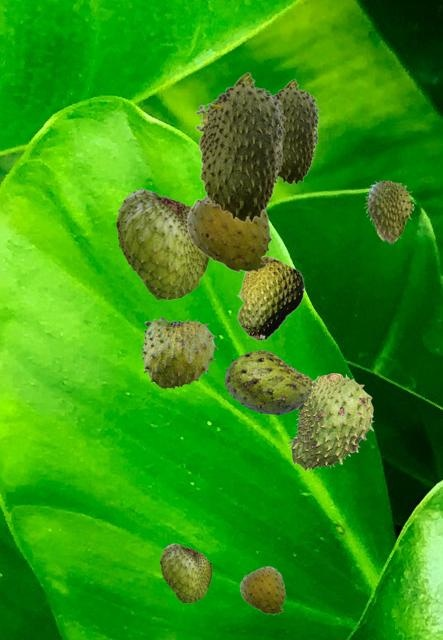guyabano: (195, 71, 286, 222), (116, 187, 210, 299), (287, 373, 373, 470), (185, 196, 271, 273), (236, 255, 304, 341), (224, 350, 314, 414), (140, 315, 217, 388), (274, 78, 320, 184), (364, 180, 415, 243), (160, 542, 211, 602), (239, 566, 285, 614)
